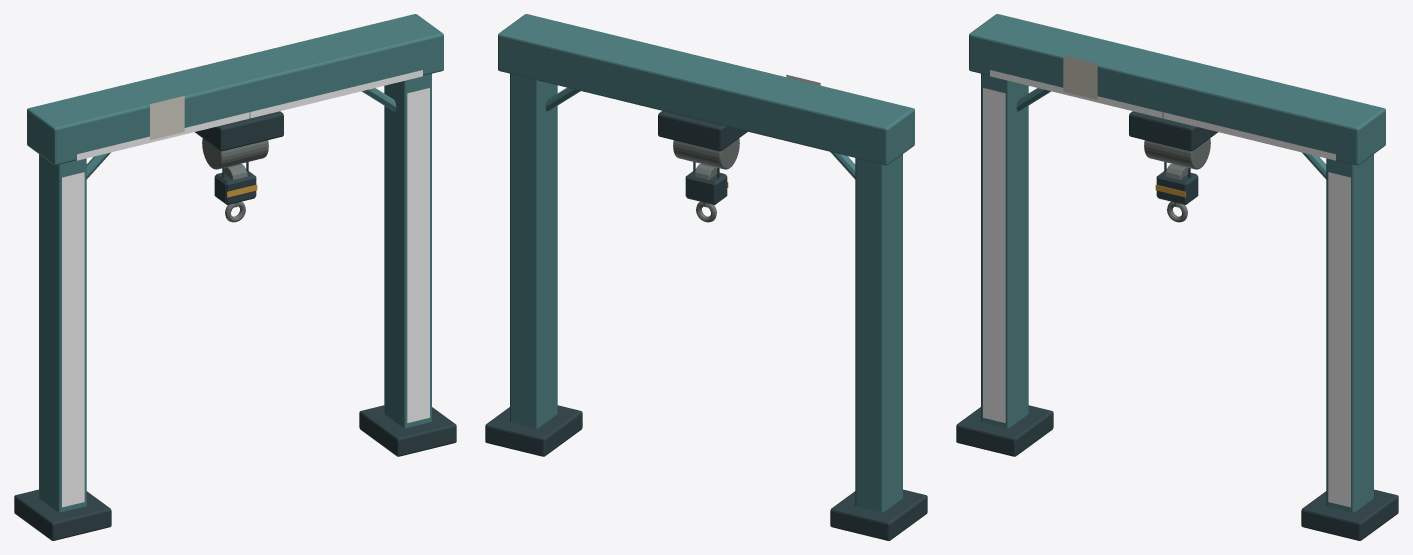
File: overhead-gantry.glb
3 renders of one model, left to right at view 1: azimuth 30°, elevation 25°; view 2: azimuth 150°, elevation 25°; view 3: azimuth 330°, elevation 25°, orthographic.
Visible parts, largest first — view 1: overhead-gantry__overhead-gantry__petrol, overhead-gantry__overhead-gantry__decal-hazard, overhead-gantry__overhead-gantry__steel, overhead-gantry__overhead-gantry__hardware, overhead-gantry__overhead-gantry__decal-ivory; view 2: overhead-gantry__overhead-gantry__petrol, overhead-gantry__overhead-gantry__steel, overhead-gantry__overhead-gantry__hardware; view 3: overhead-gantry__overhead-gantry__petrol, overhead-gantry__overhead-gantry__decal-hazard, overhead-gantry__overhead-gantry__steel, overhead-gantry__overhead-gantry__hardware, overhead-gantry__overhead-gantry__decal-ivory.
Boxes of the visible parts, x1,y1,x2,y2 form: overhead-gantry__overhead-gantry__petrol: [27, 14, 443, 512]; overhead-gantry__overhead-gantry__decal-hazard: [62, 70, 429, 507]; overhead-gantry__overhead-gantry__steel: [14, 111, 456, 540]; overhead-gantry__overhead-gantry__hardware: [202, 138, 268, 222]; overhead-gantry__overhead-gantry__decal-ivory: [150, 96, 184, 140]; overhead-gantry__overhead-gantry__petrol: [498, 14, 914, 512]; overhead-gantry__overhead-gantry__steel: [485, 111, 927, 540]; overhead-gantry__overhead-gantry__hardware: [673, 138, 739, 222]; overhead-gantry__overhead-gantry__petrol: [969, 14, 1385, 512]; overhead-gantry__overhead-gantry__decal-hazard: [983, 70, 1350, 507]; overhead-gantry__overhead-gantry__steel: [956, 111, 1398, 540]; overhead-gantry__overhead-gantry__hardware: [1144, 138, 1210, 222]; overhead-gantry__overhead-gantry__decal-ivory: [1063, 55, 1097, 99].
Bounding box in the file's own units: 5.4 × 5.21 × 0.9.
